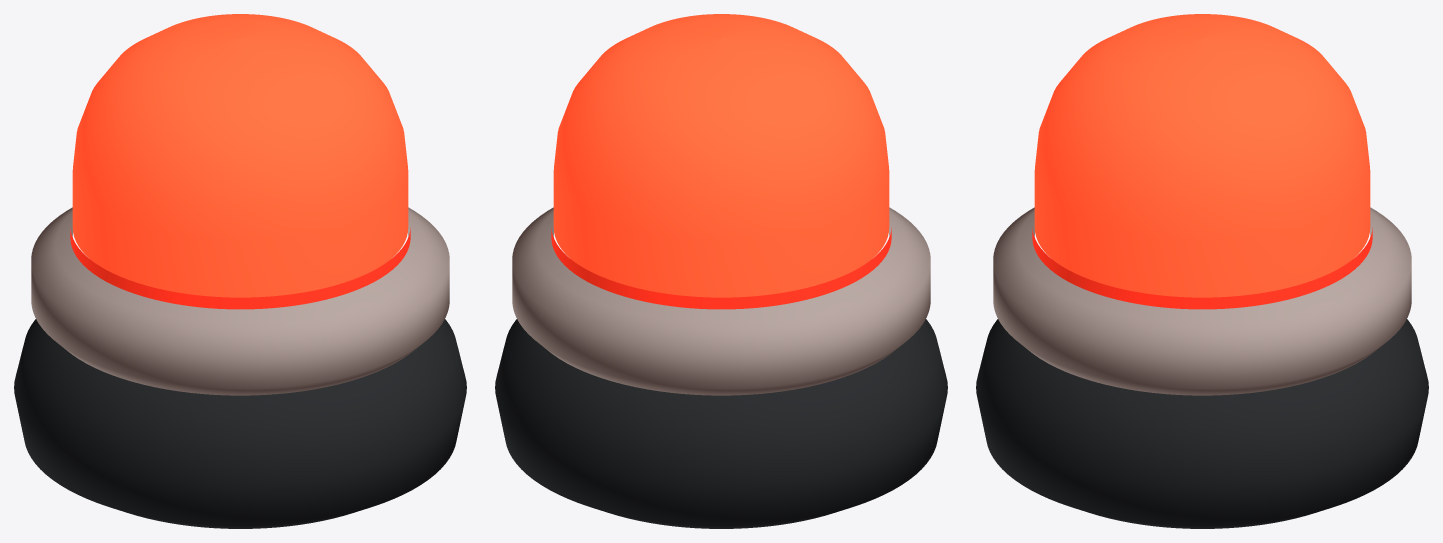
Rendered from BigRedButtonGlowLevel09.glb.
3 views of the same model, side by side, from view 1: azimuth 30°, elevation 25°; view 2: azimuth 150°, elevation 25°; view 3: azimuth 270°, elevation 25° (orthographic).
Parts seen in each view (by area): view 1: button, button_base, metal_bezel, cap_side_shadow; view 2: button, button_base, metal_bezel, cap_side_shadow; view 3: button, button_base, metal_bezel, cap_side_shadow.
Part boxes in pixels (x1,y1,x2,y2): button: [72, 14, 408, 297]; button_base: [14, 319, 466, 528]; metal_bezel: [31, 207, 449, 395]; cap_side_shadow: [70, 228, 410, 309]; button: [553, 14, 889, 297]; button_base: [495, 319, 947, 528]; metal_bezel: [512, 207, 930, 395]; cap_side_shadow: [551, 228, 891, 309]; button: [1034, 14, 1370, 297]; button_base: [976, 319, 1428, 528]; metal_bezel: [993, 207, 1411, 395]; cap_side_shadow: [1032, 228, 1372, 309].
Size of the model in its own units: 0.0185 by 0.0185 by 0.0185.
